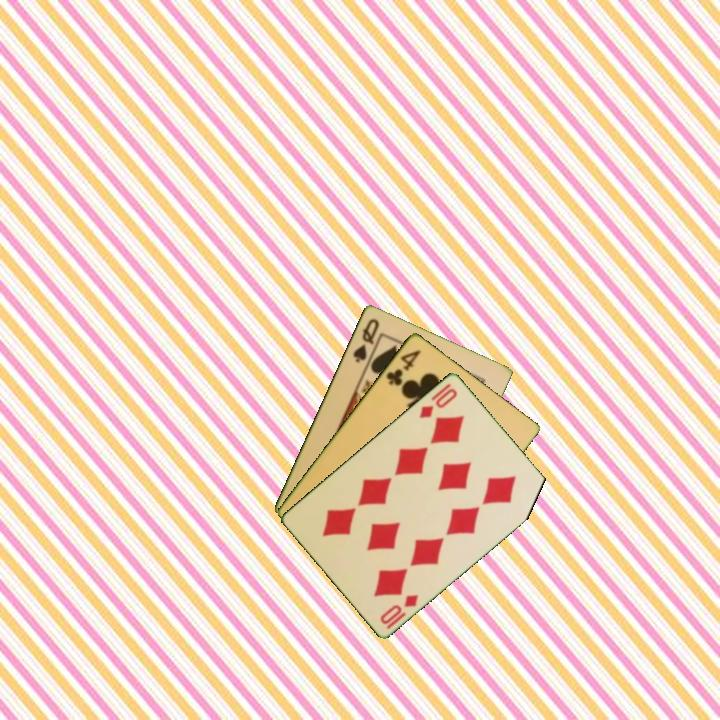10d: (376, 590, 421, 632), (415, 384, 460, 421)
4c: (382, 346, 424, 388)
Qs: (349, 315, 382, 365)
